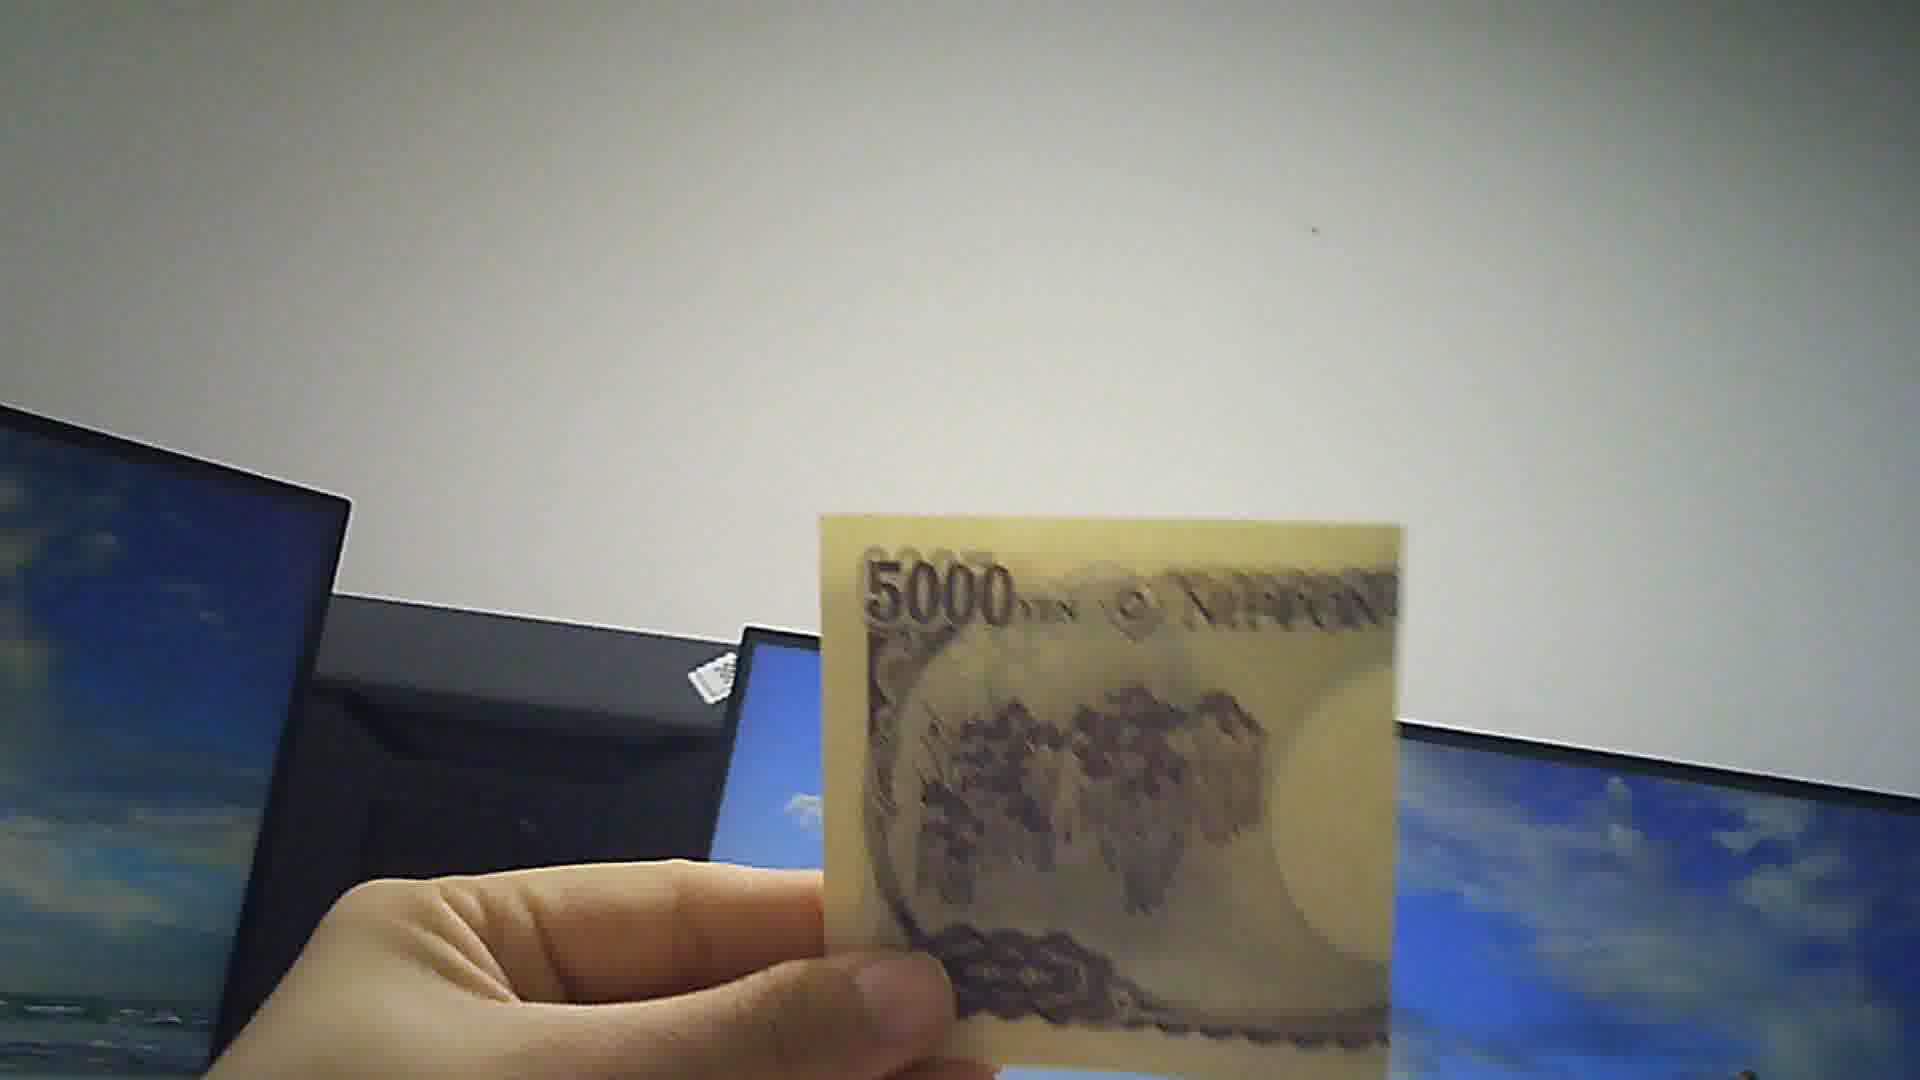5,000 Yen: (793, 496, 1404, 1069)
